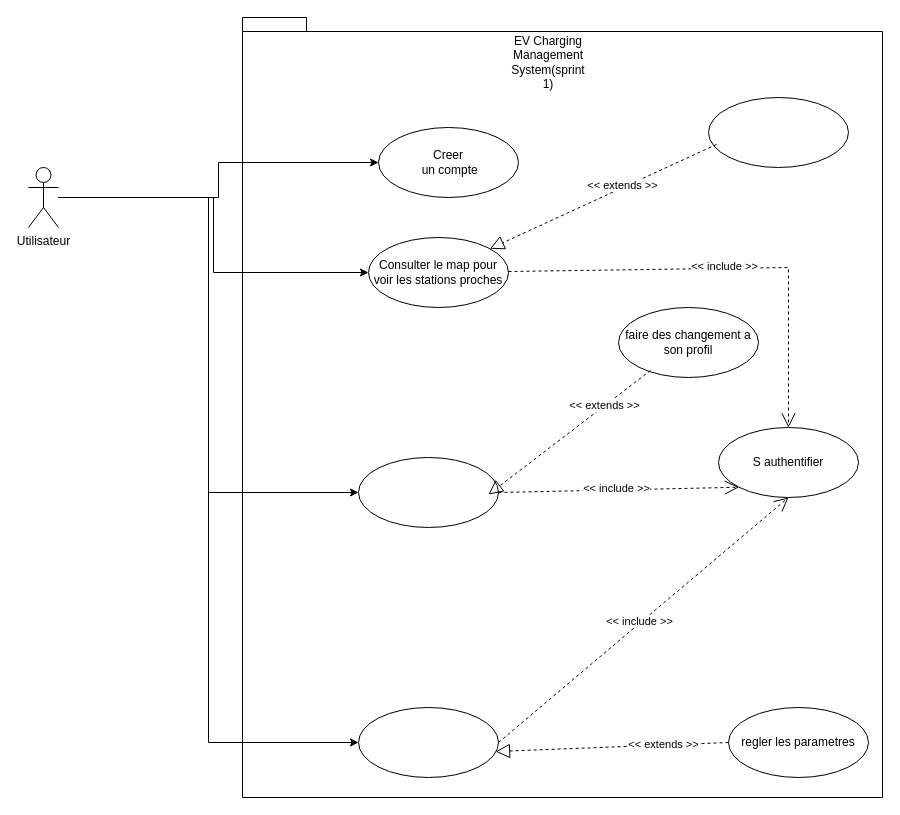
The diagram is 900 pixels wide and 815 high, and some of its shapes have lost their labels. The shapes that lost their labels are listed below. From the top down, each one's centre as x and y in pixels, then its label:
At point 778,132: "Voir l etat du chargeur (disponible/non disponible)".
At point 428,492: "consutler son profil".
At point 428,742: "voir les paramétres".
